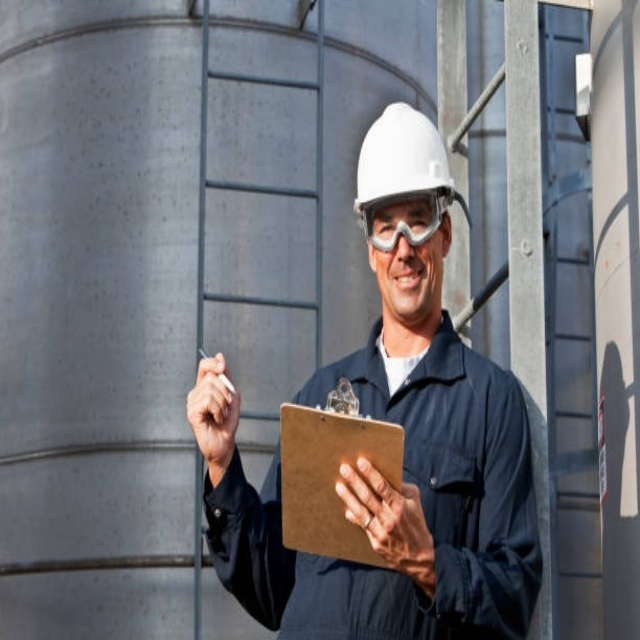Gafas: (359, 188, 440, 246)
Sin_guantes: (334, 451, 433, 582), (181, 350, 245, 453)
Sin_mascara: (386, 260, 429, 304)
